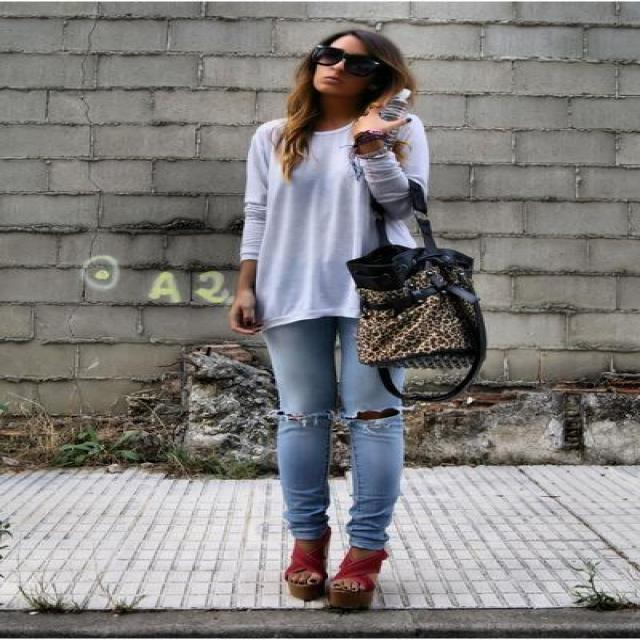bag: (347, 179, 485, 419)
pants: (252, 312, 406, 550)
shirt: (240, 111, 453, 325)
shoe: (285, 550, 387, 604)
sunglass: (307, 31, 362, 63)
